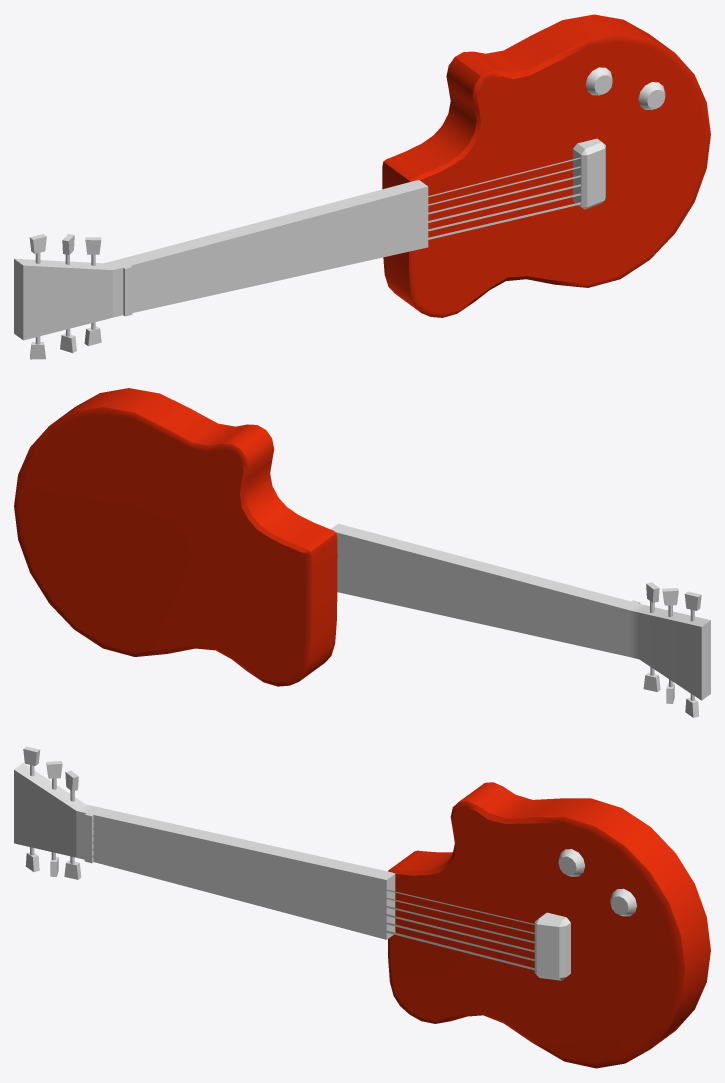
The model's file is Guitar 1.fbx.
3 views of the same model, one above another, from view 1: azimuth 30°, elevation 25°; view 2: azimuth 150°, elevation 25°; view 3: azimuth 330°, elevation 25° (orthographic).
Parts seen in each view (by area): view 1: Git_l; view 2: Git_l; view 3: Git_l.
Boxes of the visible parts, <box> form: Git_l: <box>14,14,710,359</box>; Git_l: <box>14,388,710,717</box>; Git_l: <box>14,746,710,1068</box>.
Size of the model in its own units: 131 by 45.34 by 13.72.
